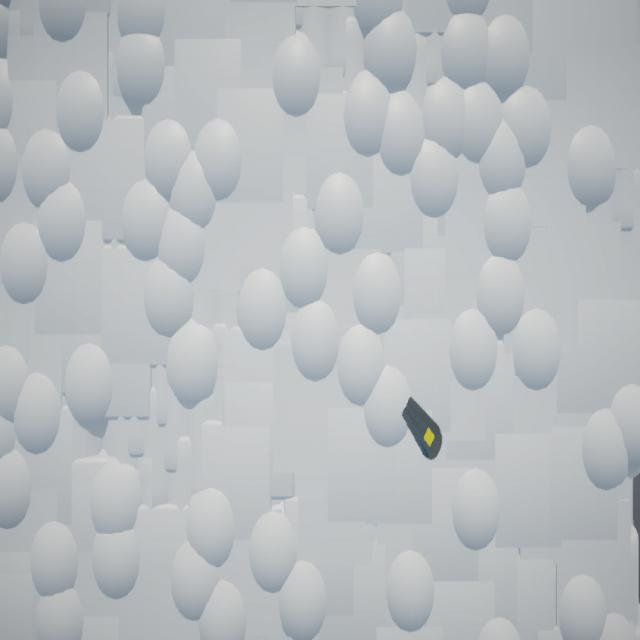handle_folk: (403, 397, 444, 461)
